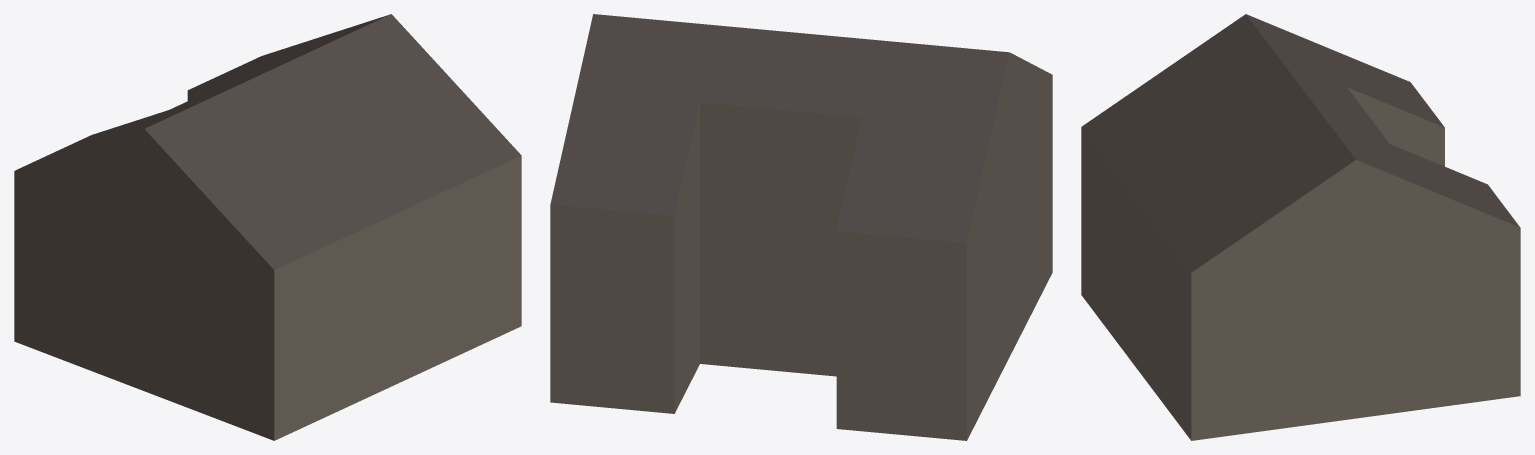
3 renders of one model, left to right at view 1: azimuth 30°, elevation 25°; view 2: azimuth 150°, elevation 25°; view 3: azimuth 270°, elevation 25°, orthographic. The views are drawn at different scales.
Visible parts, largest first — view 1: HP-w859467731; view 2: HP-w859467731; view 3: HP-w859467731.
Boxes of the visible parts, x1=… form: HP-w859467731: x1=14, y1=14, x2=521, y2=440; HP-w859467731: x1=550, y1=14, x2=1052, y2=440; HP-w859467731: x1=1081, y1=14, x2=1520, y2=440.
Bounding box in the file's own units: 21.89 × 13.85 × 21.3.
